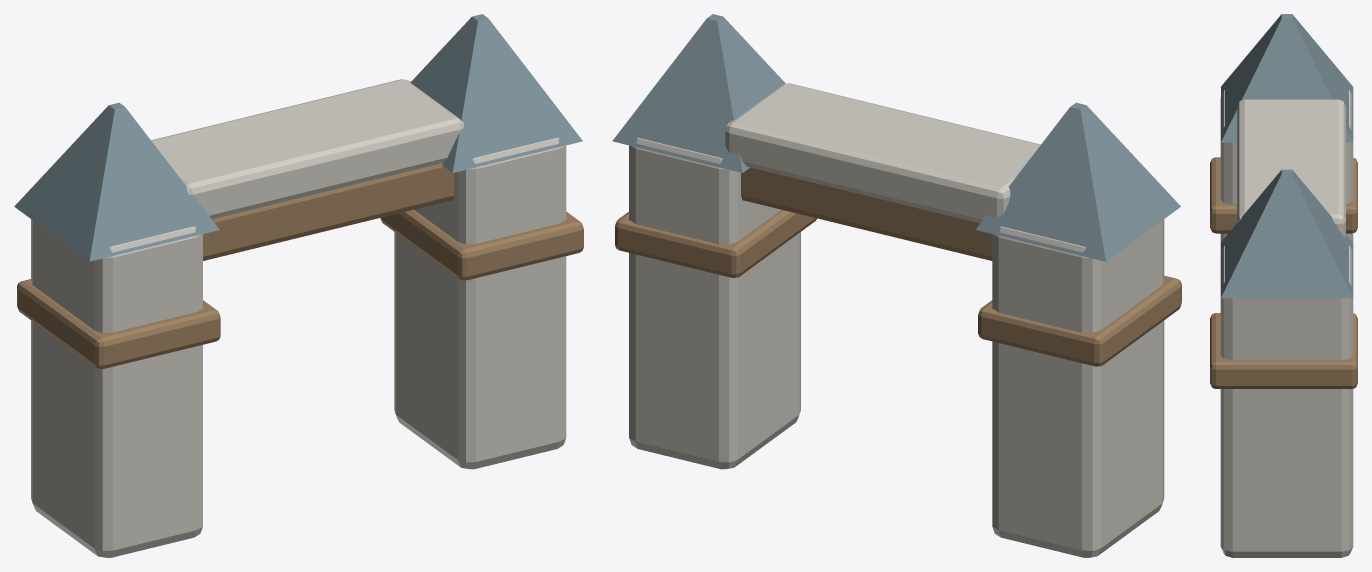
File: Valoria_ASF_GateSupport_v1.glb
3 views of the same model, side by side, from view 1: azimuth 30°, elevation 25°; view 2: azimuth 150°, elevation 25°; view 3: azimuth 270°, elevation 25° (orthographic). The views are drawn at different scales.
Visible parts, largest first — view 1: ASF_Gate_Pier.001, ASF_Gate_Pier, ASF_Gate_StoneLintel, ASF_Gate_RoofCap.001, ASF_Gate_RoofCap, ASF_Gate_Crossbeam, ASF_Gate_TimberBand.001, ASF_Gate_TimberBand; view 2: ASF_Gate_Pier.001, ASF_Gate_Pier, ASF_Gate_StoneLintel, ASF_Gate_RoofCap.001, ASF_Gate_RoofCap, ASF_Gate_Crossbeam, ASF_Gate_TimberBand.001, ASF_Gate_TimberBand; view 3: ASF_Gate_Pier, ASF_Gate_RoofCap, ASF_Gate_StoneLintel, ASF_Gate_RoofCap.001, ASF_Gate_TimberBand, ASF_Gate_Pier.001, ASF_Gate_TimberBand.001.
Boxes of the visible parts, x1,y1,x2,y2 form: ASF_Gate_Pier.001: (31, 219, 202, 557); ASF_Gate_Pier: (394, 137, 566, 469); ASF_Gate_StoneLintel: (151, 79, 463, 219); ASF_Gate_RoofCap.001: (14, 102, 219, 261); ASF_Gate_RoofCap: (410, 14, 582, 172); ASF_Gate_Crossbeam: (203, 163, 454, 260); ASF_Gate_TimberBand.001: (17, 279, 220, 368); ASF_Gate_TimberBand: (380, 209, 583, 280); ASF_Gate_Pier.001: (992, 219, 1164, 557); ASF_Gate_Pier: (629, 138, 800, 469); ASF_Gate_StoneLintel: (725, 83, 1040, 223); ASF_Gate_RoofCap.001: (975, 102, 1180, 261); ASF_Gate_RoofCap: (612, 14, 784, 172); ASF_Gate_Crossbeam: (741, 167, 992, 260); ASF_Gate_TimberBand.001: (978, 275, 1181, 366); ASF_Gate_TimberBand: (615, 209, 816, 277); ASF_Gate_Pier: (1220, 245, 1353, 557); ASF_Gate_RoofCap: (1221, 169, 1353, 298); ASF_Gate_StoneLintel: (1237, 99, 1345, 237); ASF_Gate_RoofCap.001: (1221, 14, 1353, 142); ASF_Gate_TimberBand: (1210, 313, 1357, 388); ASF_Gate_Pier.001: (1220, 90, 1353, 252); ASF_Gate_TimberBand.001: (1210, 157, 1357, 233).
Size of the model in its own units: 3.32 by 2.69 by 0.98.
